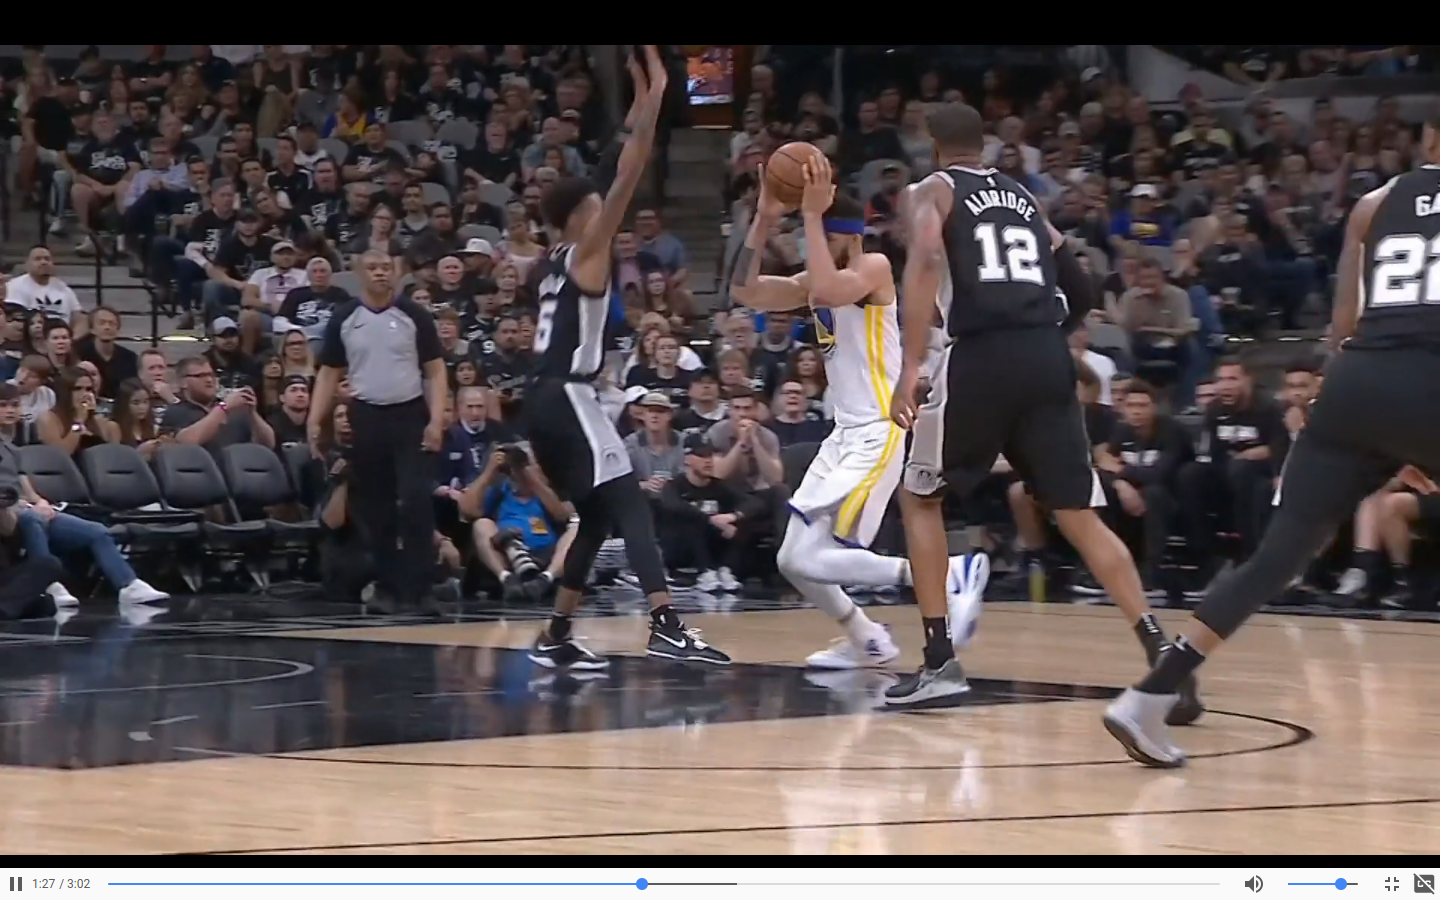basketball: (755, 136, 842, 216)
basketball player: (1096, 104, 1440, 776), (879, 102, 1173, 697), (522, 48, 716, 680), (733, 196, 904, 685)
referee: (298, 245, 453, 623)
